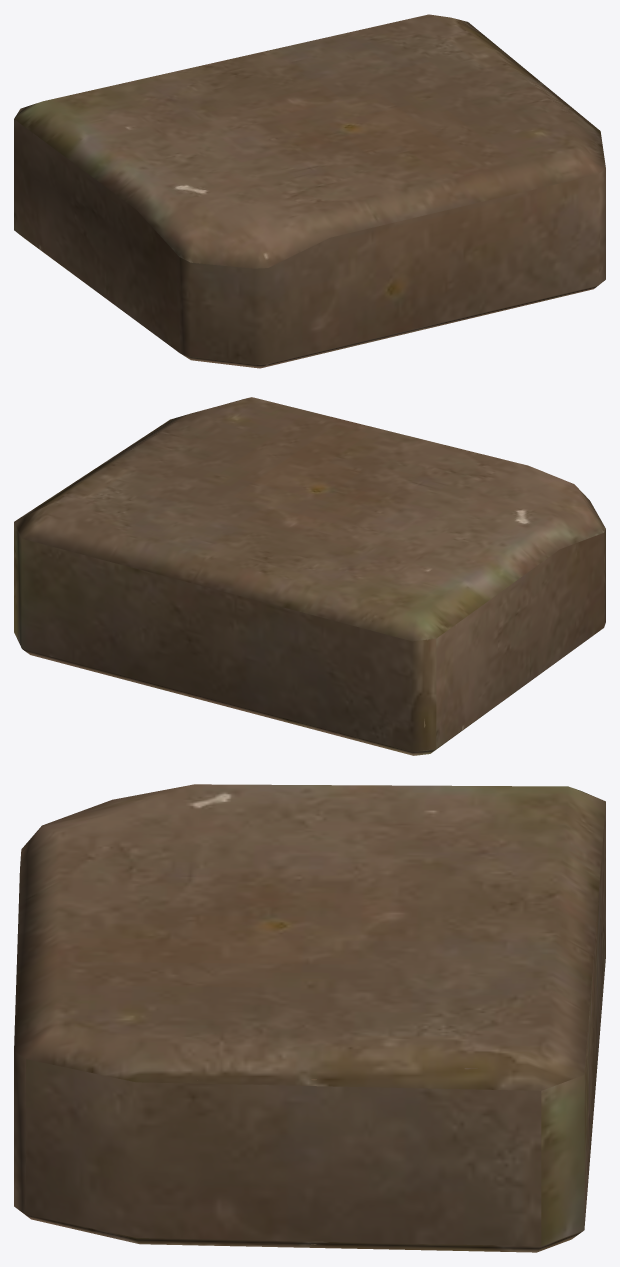
3 renders of one model, top to bottom at view 1: azimuth 30°, elevation 25°; view 2: azimuth 150°, elevation 25°; view 3: azimuth 270°, elevation 25°, orthographic. The views are drawn at different scales.
Visible parts, largest first — view 1: SM_Human_Ruins_Floor_Slab_03_LOD0; view 2: SM_Human_Ruins_Floor_Slab_03_LOD0; view 3: SM_Human_Ruins_Floor_Slab_03_LOD0.
Boxes of the visible parts, x1,y1,x2,y2 form: SM_Human_Ruins_Floor_Slab_03_LOD0: (14,14,605,368); SM_Human_Ruins_Floor_Slab_03_LOD0: (14,397,605,755); SM_Human_Ruins_Floor_Slab_03_LOD0: (14,784,605,1252).
Bounding box in the file's own units: 0.8206 × 0.2392 × 0.6817.
1 material, 1 textured.
